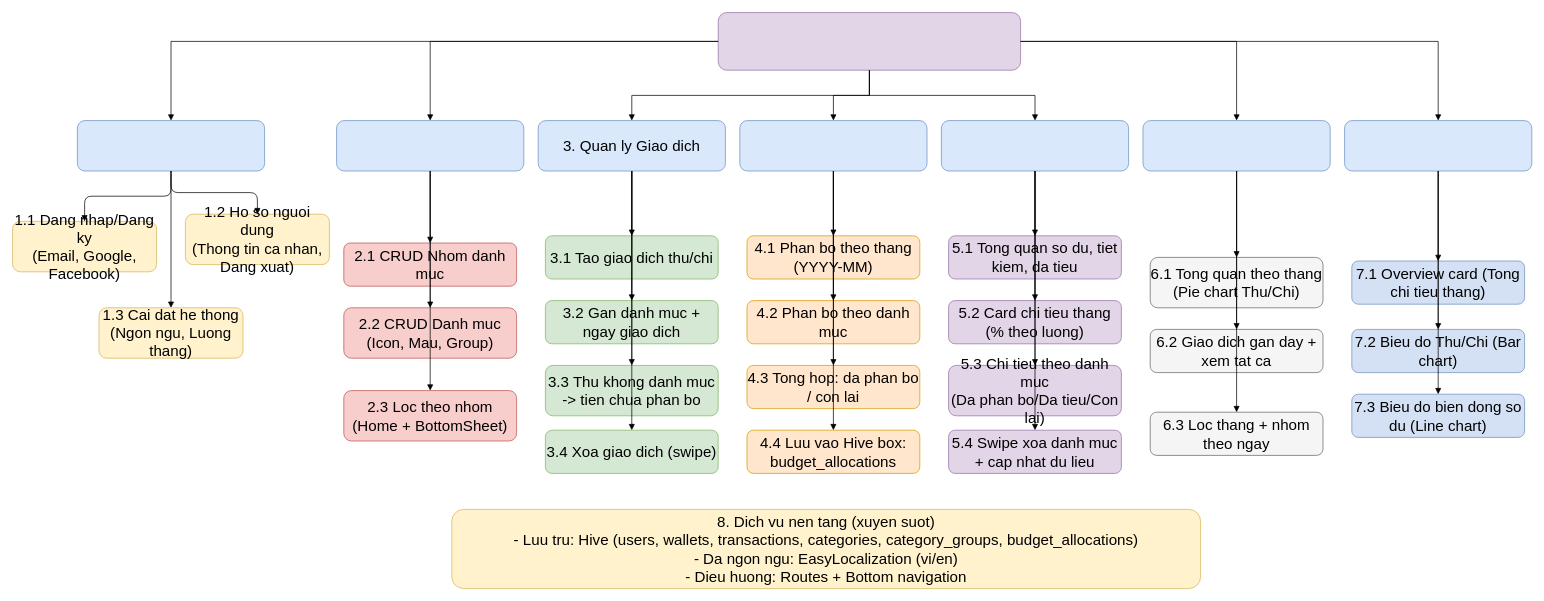
Image size: 1544x601. Some labels were removed from this diagram. Here are the shapes that lost their labels. From the top down, the box of each, then its label:
(717, 12, 1021, 70): He thong Quan ly Chi tieu (App_Expense_Management)
(77, 120, 265, 171): 1. Quan ly Nguoi dung va Cai dat
(336, 120, 524, 171): 2. Quan ly Nhom/Danh muc
(739, 120, 927, 171): 4. Phan bo Ngan sach
(941, 120, 1129, 171): 5. Tong quan Trang chu
(1142, 120, 1330, 171): 6. Lich su Giao dich
(1344, 120, 1532, 171): 7. Thong ke
